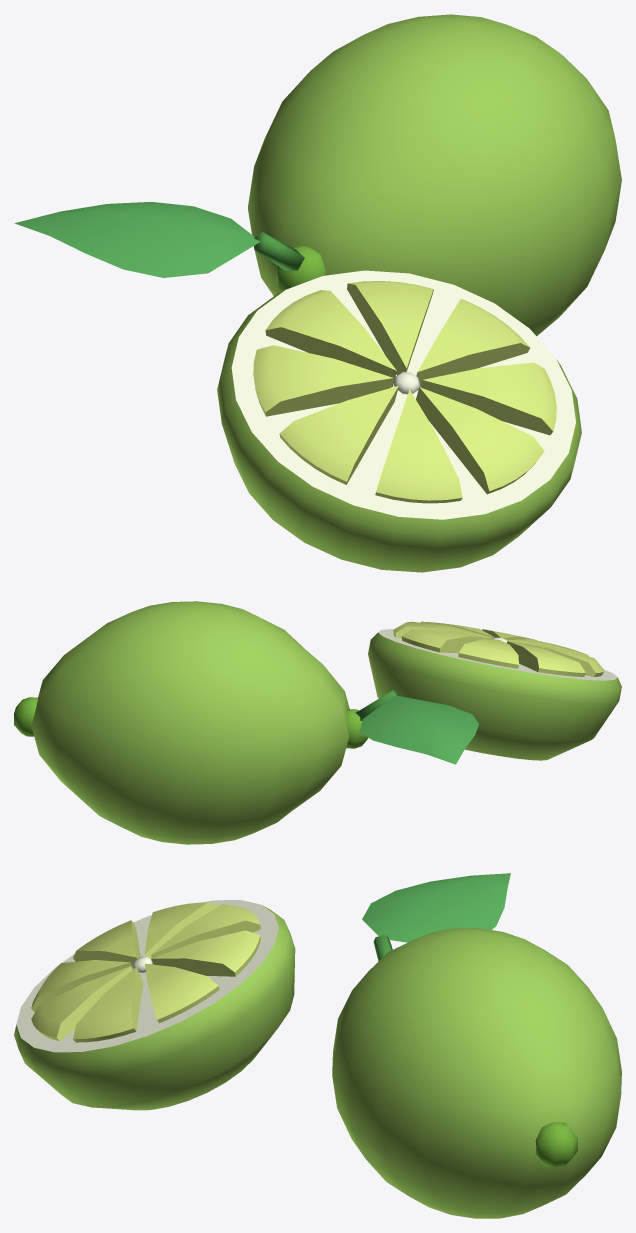
File: limao.glb
3 renders of one model, top to bottom at view 1: azimuth 30°, elevation 25°; view 2: azimuth 150°, elevation 25°; view 3: azimuth 270°, elevation 25°, orthographic. The views are drawn at different scales.
Parts seen in each view (by area): view 1: limao; view 2: limao; view 3: limao.
Part boxes in pixels (x1=…): limao: x1=14, y1=14, x2=621, y2=572; limao: x1=14, y1=601, x2=621, y2=844; limao: x1=14, y1=873, x2=621, y2=1218.
Bounding box in the file's own units: 0.167 × 0.084 × 0.1804.
